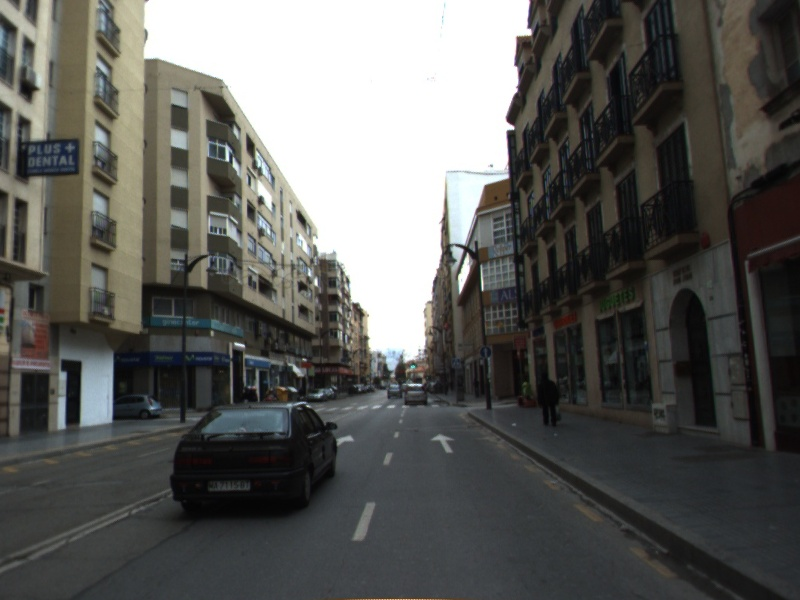STRAIGHT: (429, 431, 456, 454), (334, 433, 356, 448)
